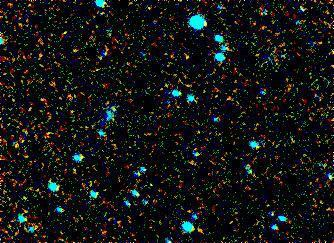star: (96, 99, 126, 129)
